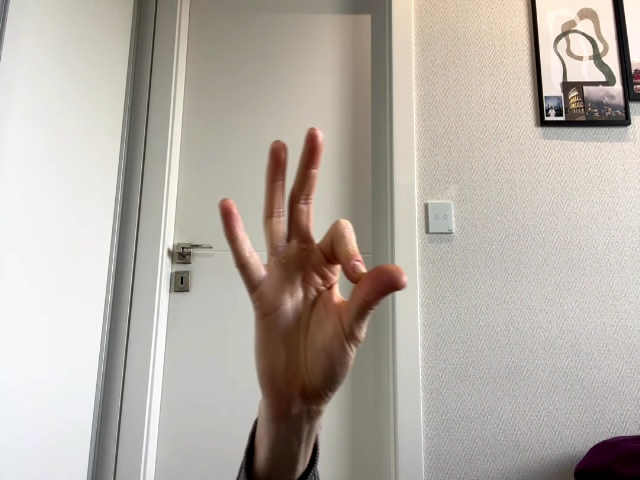S: (220, 128, 408, 411)
